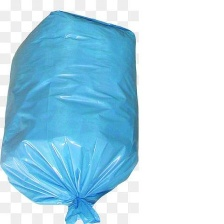plastic_bag: (0, 8, 145, 224)
